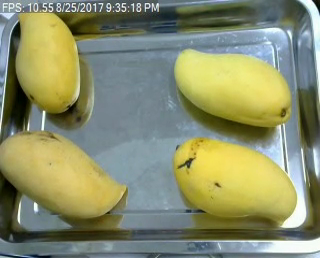Mango: (172, 133, 311, 235), (0, 126, 137, 228), (173, 35, 298, 130), (14, 3, 87, 117)
